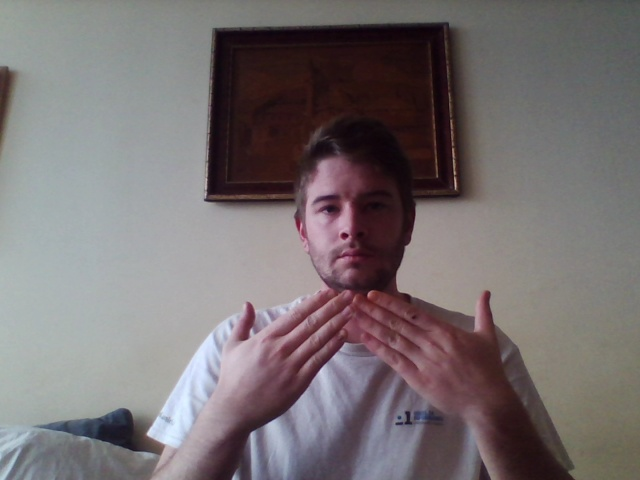hvala: (220, 288, 499, 423)
